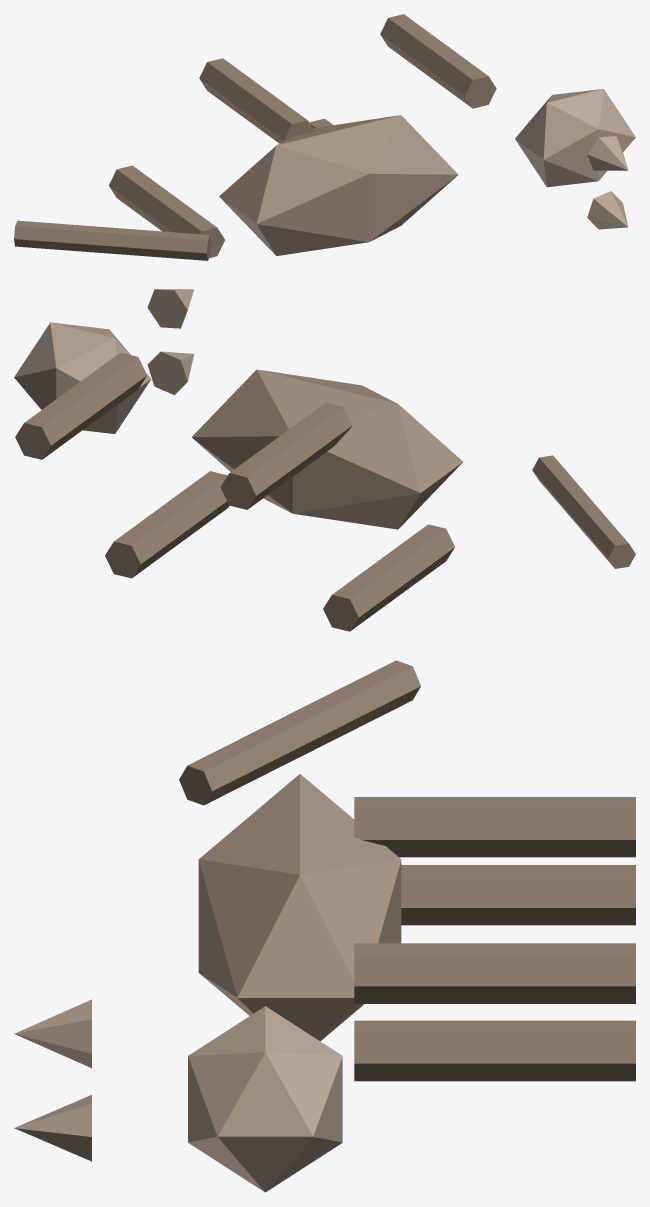
The model's file is hedgehog.glb.
The picture shows the model from 3 angles, top to bottom: view 1: azimuth 30°, elevation 25°; view 2: azimuth 150°, elevation 25°; view 3: azimuth 270°, elevation 25°; orthographic projection. The views are drawn at different scales.
Parts seen in each view (by area): view 1: world; view 2: world; view 3: world.
Boxes of the visible parts, x1,y1,x2,y2 form: world: (14,14,635,260); world: (14,289,635,631); world: (14,660,635,1192).
Size of the model in its own units: 2.52 by 0.4812 by 1.44.
